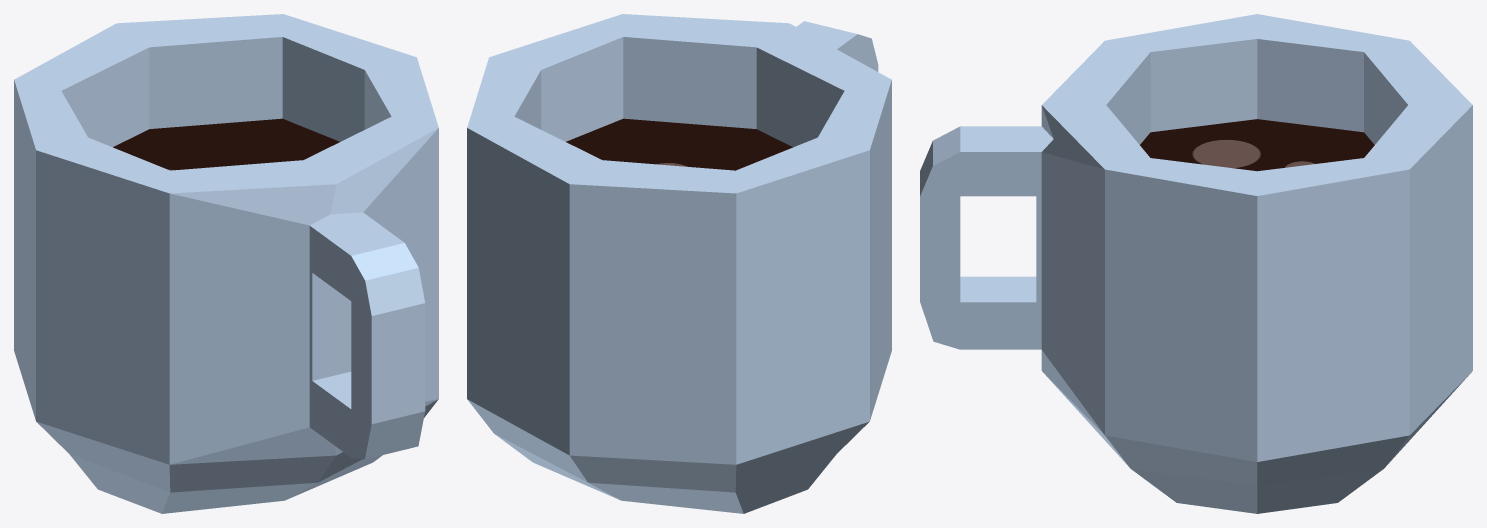
The model's file is Taza Cafe.fbx.
3 renders of one model, left to right at view 1: azimuth 30°, elevation 25°; view 2: azimuth 150°, elevation 25°; view 3: azimuth 270°, elevation 25°, orthographic. The views are drawn at different scales.
Parts seen in each view (by area): view 1: pCylinder1; view 2: pCylinder1; view 3: pCylinder1.
Boxes of the visible parts, x1,y1,x2,y2 form: pCylinder1: (14, 14, 438, 513); pCylinder1: (467, 14, 891, 513); pCylinder1: (920, 14, 1472, 513).
Size of the model in its own units: 2.79 by 2.48 by 3.58.
1 material, 1 textured.
